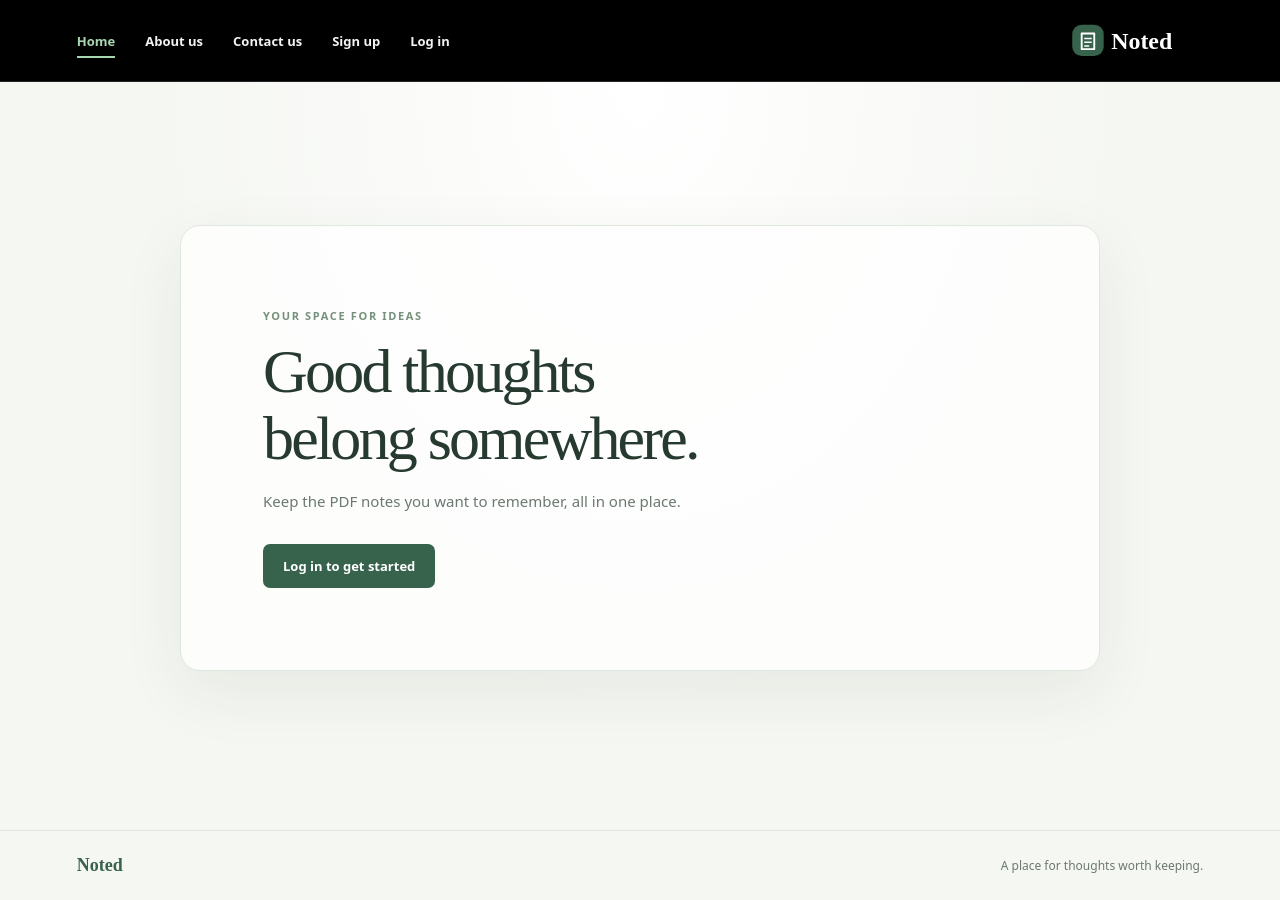
Scenario: navigates to a page from the navbar
Click the link "About us" at (174, 40), box 145,32 -> 203,50
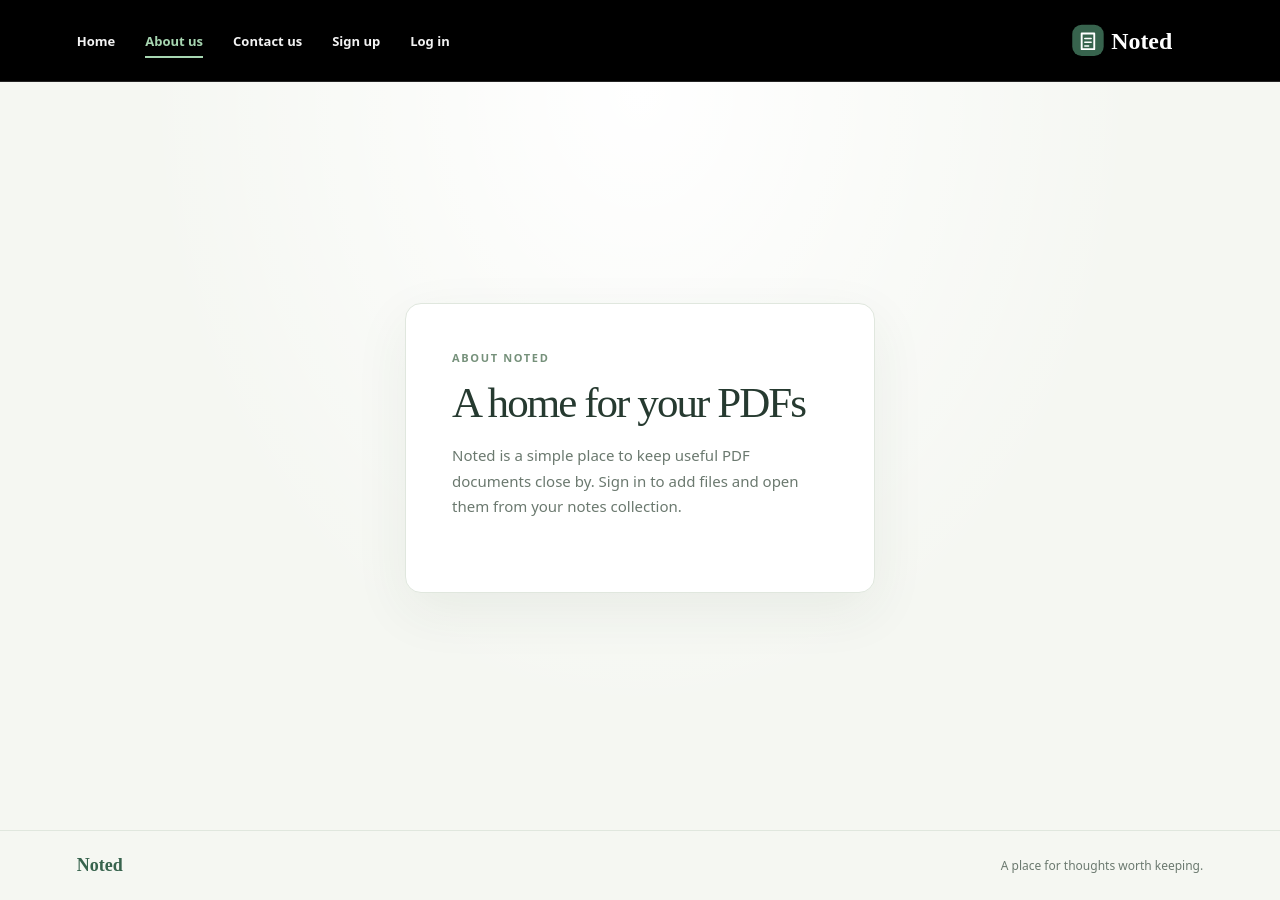
Expected: the heading "A home for your PDFs" is shown, 452,380 -> 828,426
